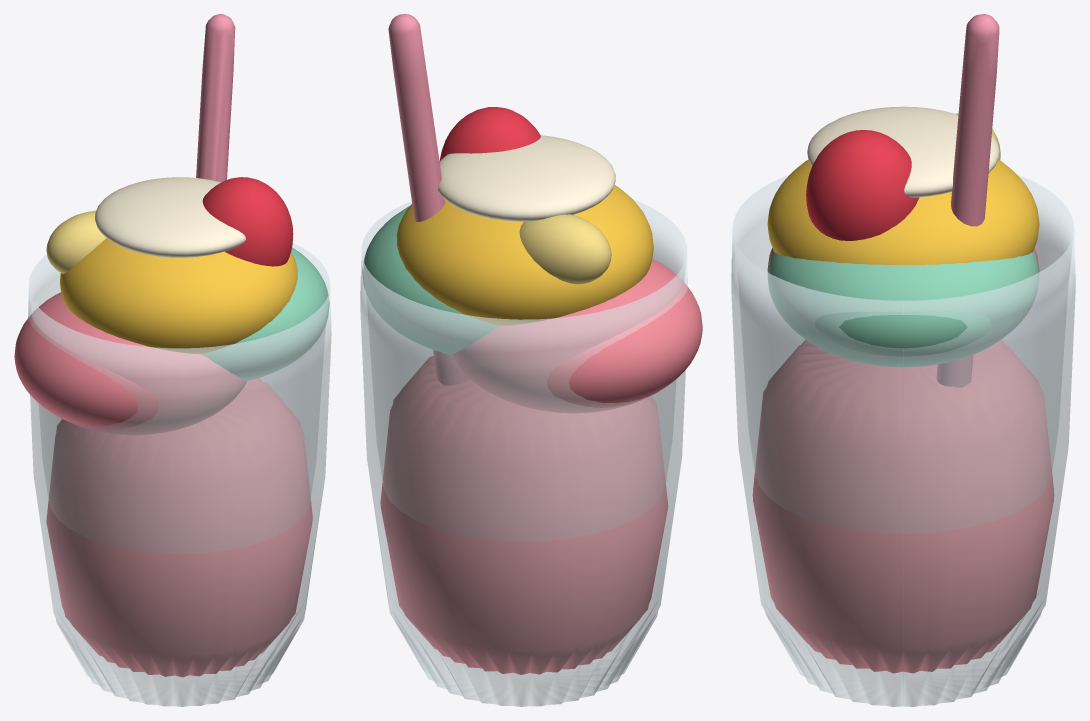
Rendered from comida_cholado.glb.
3 views of the same model, side by side, from view 1: azimuth 30°, elevation 25°; view 2: azimuth 150°, elevation 25°; view 3: azimuth 270°, elevation 25° (orthographic). The views are drawn at different scales.
Parts seen in each view (by area): view 1: vaso.005, bebida.005, hielo 0.003, hielo 2.003, leche condensada.001, hielo 1.003, fresa cholado.001, pitillo.005, banano cholado.001; view 2: vaso.005, bebida.005, hielo 0.003, hielo 2.003, leche condensada.001, pitillo.005, hielo 1.003, banano cholado.001, fresa cholado.001; view 3: vaso.005, bebida.005, hielo 1.003, hielo 2.003, fresa cholado.001, pitillo.005, leche condensada.001.
Boxes of the visible parts, x1,y1,x2,y2 form: vaso.005: [28, 243, 331, 706]; bebida.005: [46, 378, 312, 677]; hielo 0.003: [14, 292, 246, 434]; hielo 2.003: [60, 238, 297, 353]; leche condensada.001: [95, 177, 245, 257]; hielo 1.003: [202, 247, 329, 380]; fresa cholado.001: [202, 177, 293, 266]; pitillo.005: [196, 14, 235, 182]; banano cholado.001: [46, 210, 106, 273]; vaso.005: [360, 199, 687, 706]; bebida.005: [380, 356, 668, 674]; hielo 0.003: [451, 259, 702, 412]; hielo 2.003: [396, 185, 653, 325]; leche condensada.001: [438, 135, 615, 221]; pitillo.005: [388, 14, 469, 385]; hielo 1.003: [362, 206, 499, 354]; banano cholado.001: [519, 214, 611, 284]; fresa cholado.001: [439, 107, 540, 160]; vaso.005: [731, 175, 1075, 706]; bebida.005: [752, 340, 1054, 673]; hielo 1.003: [767, 251, 1039, 366]; hielo 2.003: [767, 159, 1039, 264]; fresa cholado.001: [806, 130, 919, 240]; pitillo.005: [937, 14, 999, 387]; leche condensada.001: [807, 106, 999, 197].
Size of the model in its own units: 0.1874 by 0.3917 by 0.1741.
